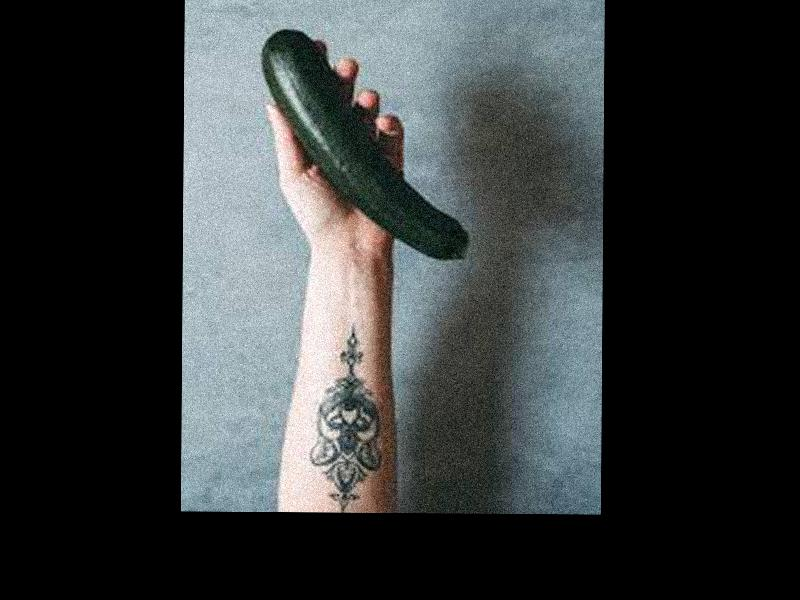Cucumber: (261, 29, 469, 258)
